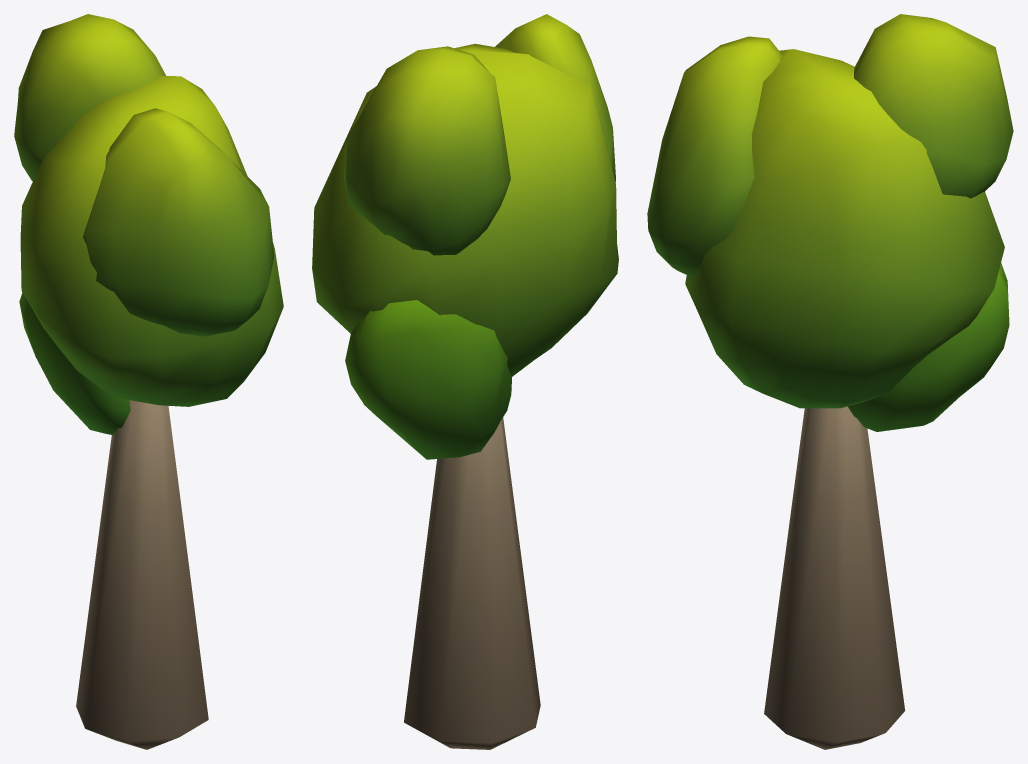
Rendered from tree_01.fbx.
The picture shows the model from 3 angles, left to right: view 1: azimuth 30°, elevation 25°; view 2: azimuth 150°, elevation 25°; view 3: azimuth 270°, elevation 25°; orthographic projection. The views are drawn at different scales.
Parts seen in each view (by area): view 1: tree_02; view 2: tree_02; view 3: tree_02.
Part boxes in pixels (box(x1,y1,x2,y2)): tree_02: box(14, 14, 283, 749); tree_02: box(312, 14, 618, 749); tree_02: box(647, 14, 1013, 749).
Size of the model in its own units: 9.75 by 26.03 by 12.11.
1 material, 1 textured.
